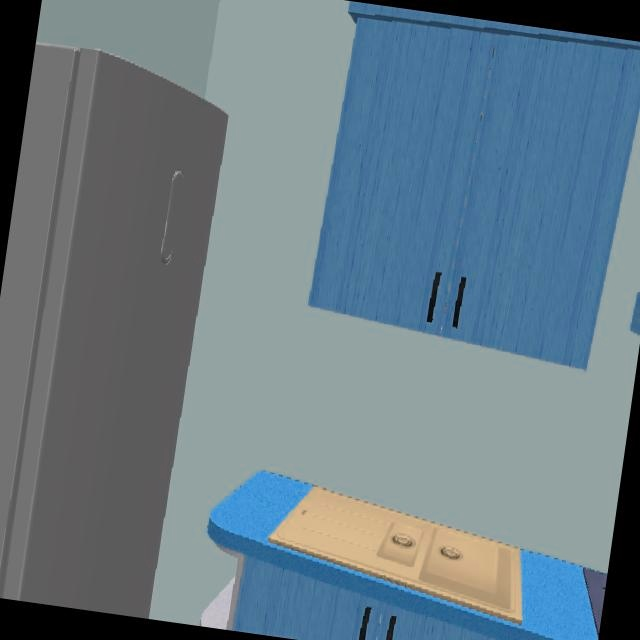cabinet: (307, 8, 640, 372)
countertop: (206, 472, 599, 640)
fridge: (0, 43, 230, 619)
sink: (262, 488, 524, 628)
